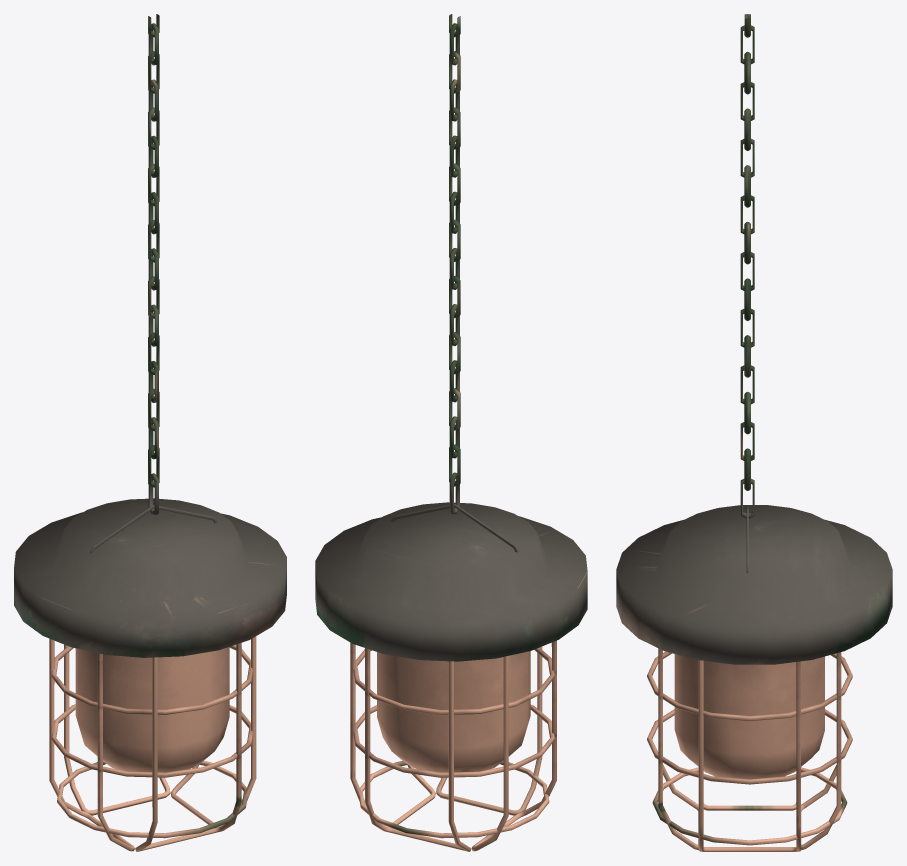
The model's file is celingligh.fbx.
3 renders of one model, left to right at view 1: azimuth 30°, elevation 25°; view 2: azimuth 150°, elevation 25°; view 3: azimuth 270°, elevation 25°, orthographic.
Parts seen in each view (by area): view 1: celinglight; view 2: celinglight; view 3: celinglight.
Part boxes in pixels (x1,y1,x2,y2): celinglight: (14, 14, 286, 851); celinglight: (315, 14, 587, 851); celinglight: (616, 14, 892, 851).
Bounding box in the file's own units: 173 × 568 × 175.
